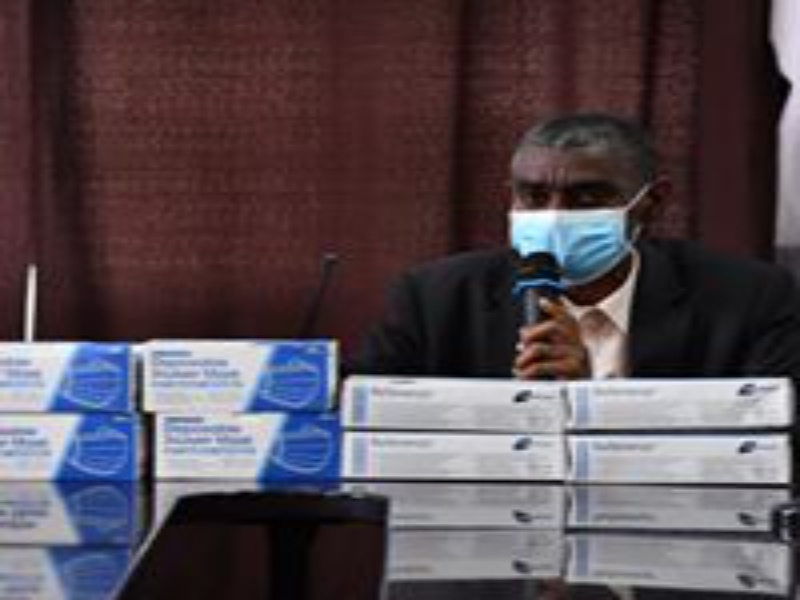ManaoArotava: (494, 104, 658, 298)
